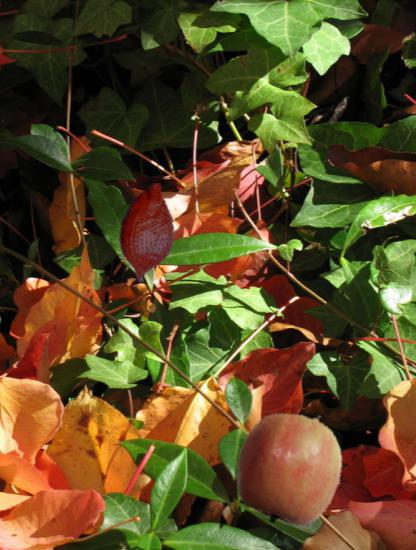Apple: (232, 408, 350, 526)
Salak: (96, 182, 198, 284)
